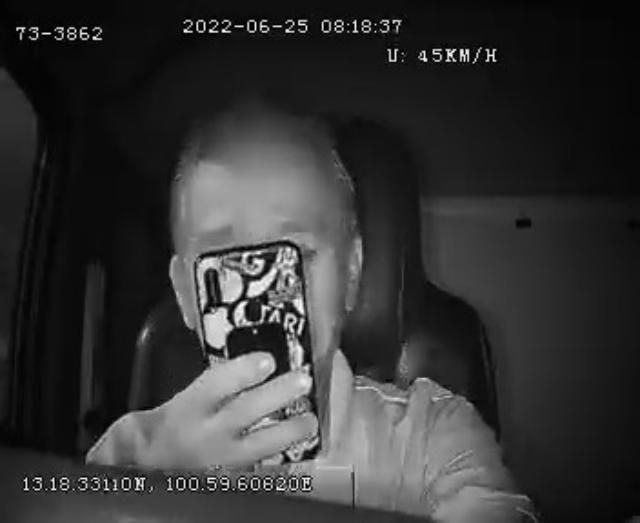PhoneUse: (194, 240, 324, 462)
